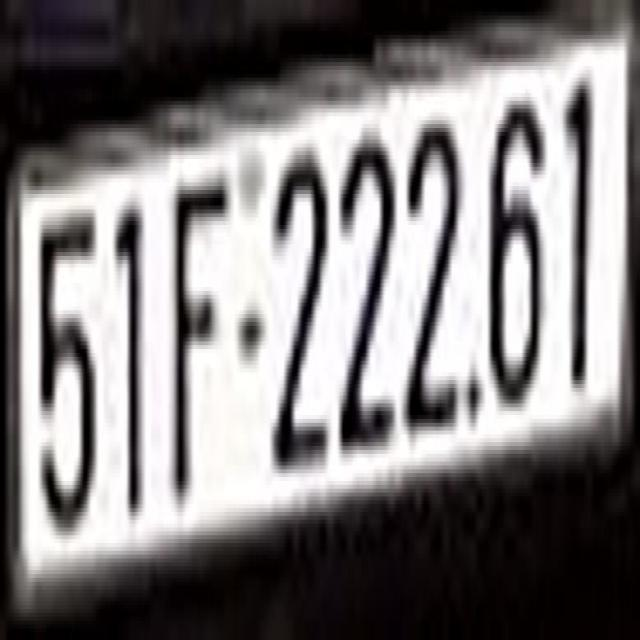1: (560, 66, 591, 403), (115, 190, 146, 524)
2: (268, 155, 331, 469), (404, 105, 462, 442), (336, 140, 396, 458)
5: (37, 206, 97, 520)
6: (484, 85, 544, 423)
F: (168, 170, 228, 504)
